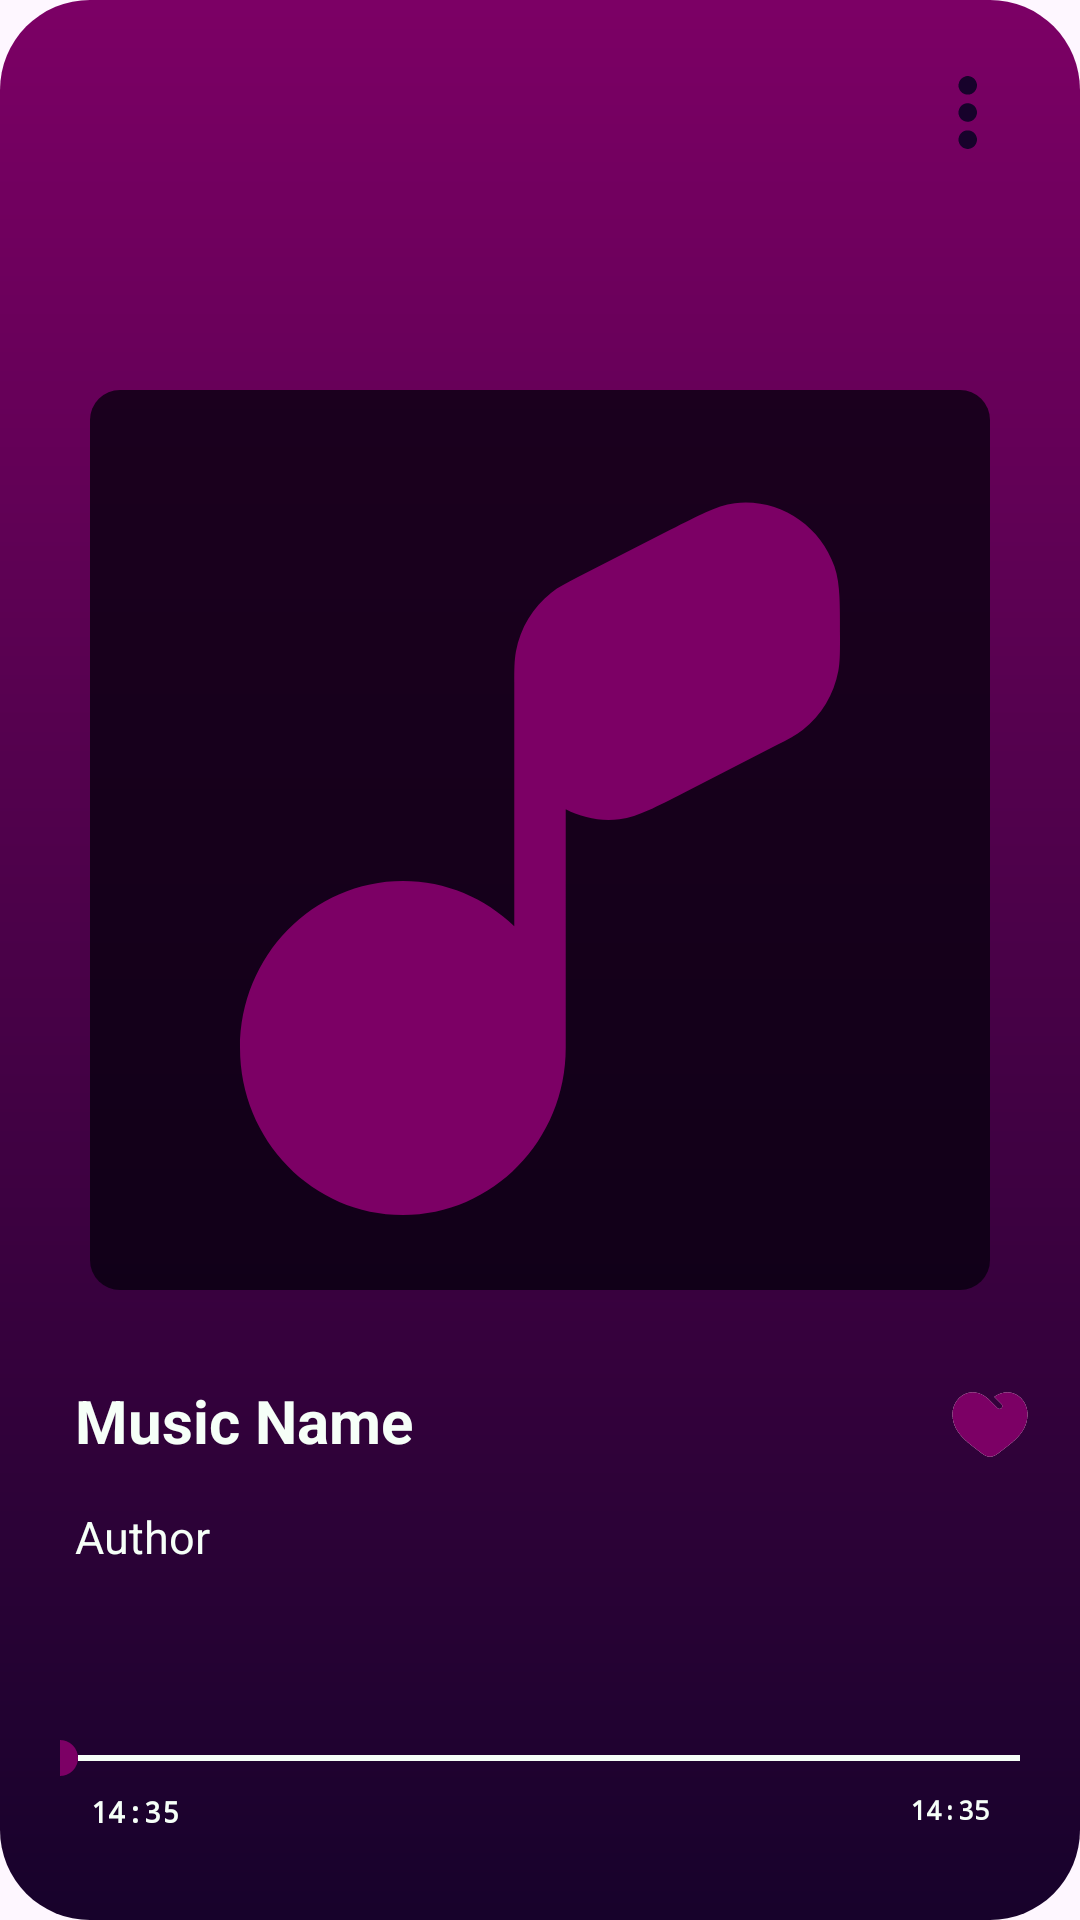

Icon click points for this 1080px×1920px phone screenshot, format point (x, y):
options vertical: point (967, 112)
